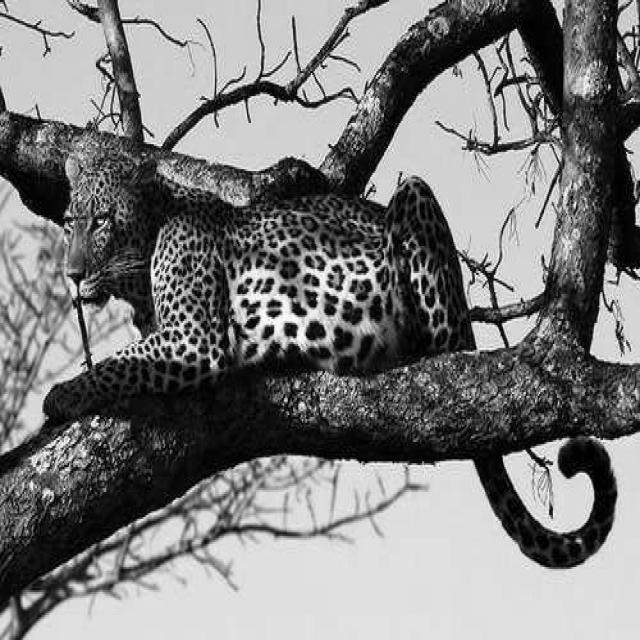Leopard: (44, 136, 477, 417)
